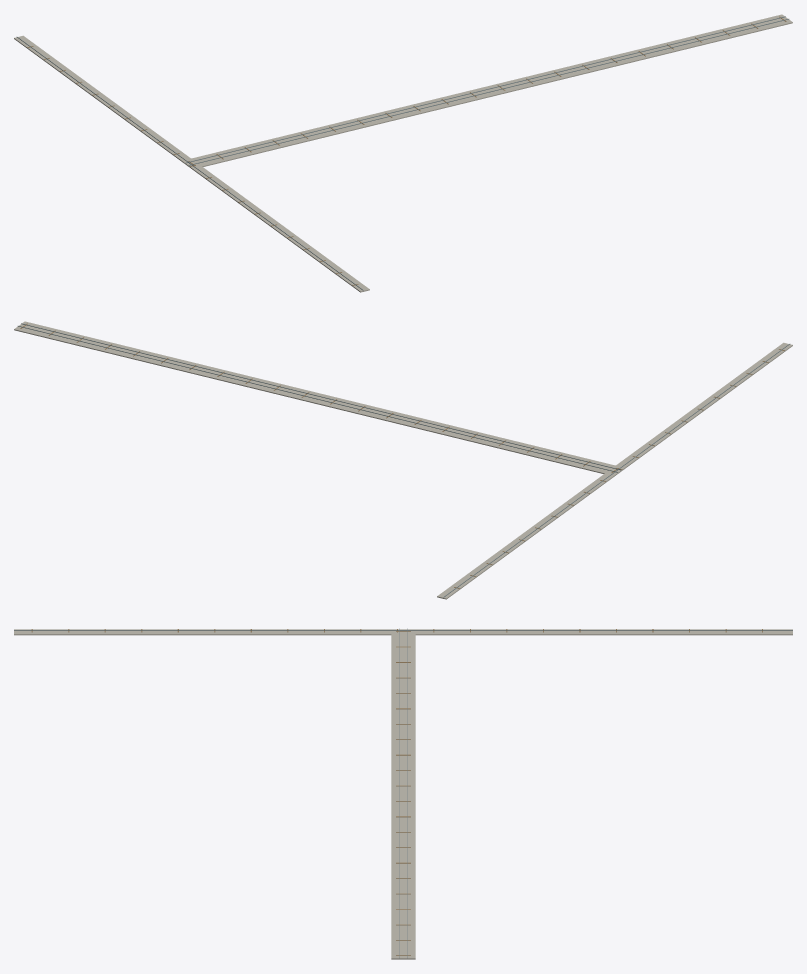
Rendered from valley-8-2.glb.
3 views of the same model, one above another, from view 1: azimuth 30°, elevation 25°; view 2: azimuth 150°, elevation 25°; view 3: azimuth 270°, elevation 25° (orthographic). The views are drawn at different scales.
Parts seen in each view (by area): view 1: valley-8-2; view 2: valley-8-2; view 3: valley-8-2.
Boxes of the visible parts, box(x1,y1,x2,y2) form: valley-8-2: box(14, 14, 792, 292); valley-8-2: box(14, 321, 792, 599); valley-8-2: box(14, 628, 792, 959).
Bounding box in the file's own units: 256 × 0.7 × 256.
